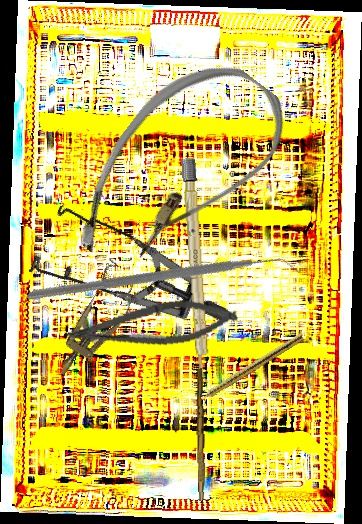Cannula: (54, 35, 303, 305)
Chopper: (25, 150, 302, 418)
Handpiece: (191, 331, 305, 407)
Micro Scissor: (61, 290, 241, 364)
Scalpel Handle: (181, 157, 211, 385), (194, 368, 208, 501)
Speculum: (8, 160, 231, 394), (42, 258, 149, 387)
